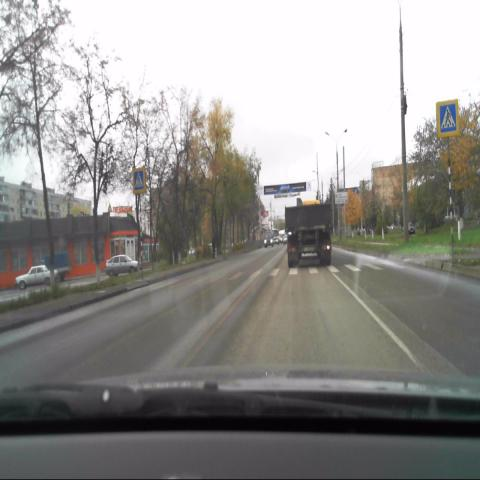5_19_1: (436, 99, 458, 137), (133, 166, 146, 194)
